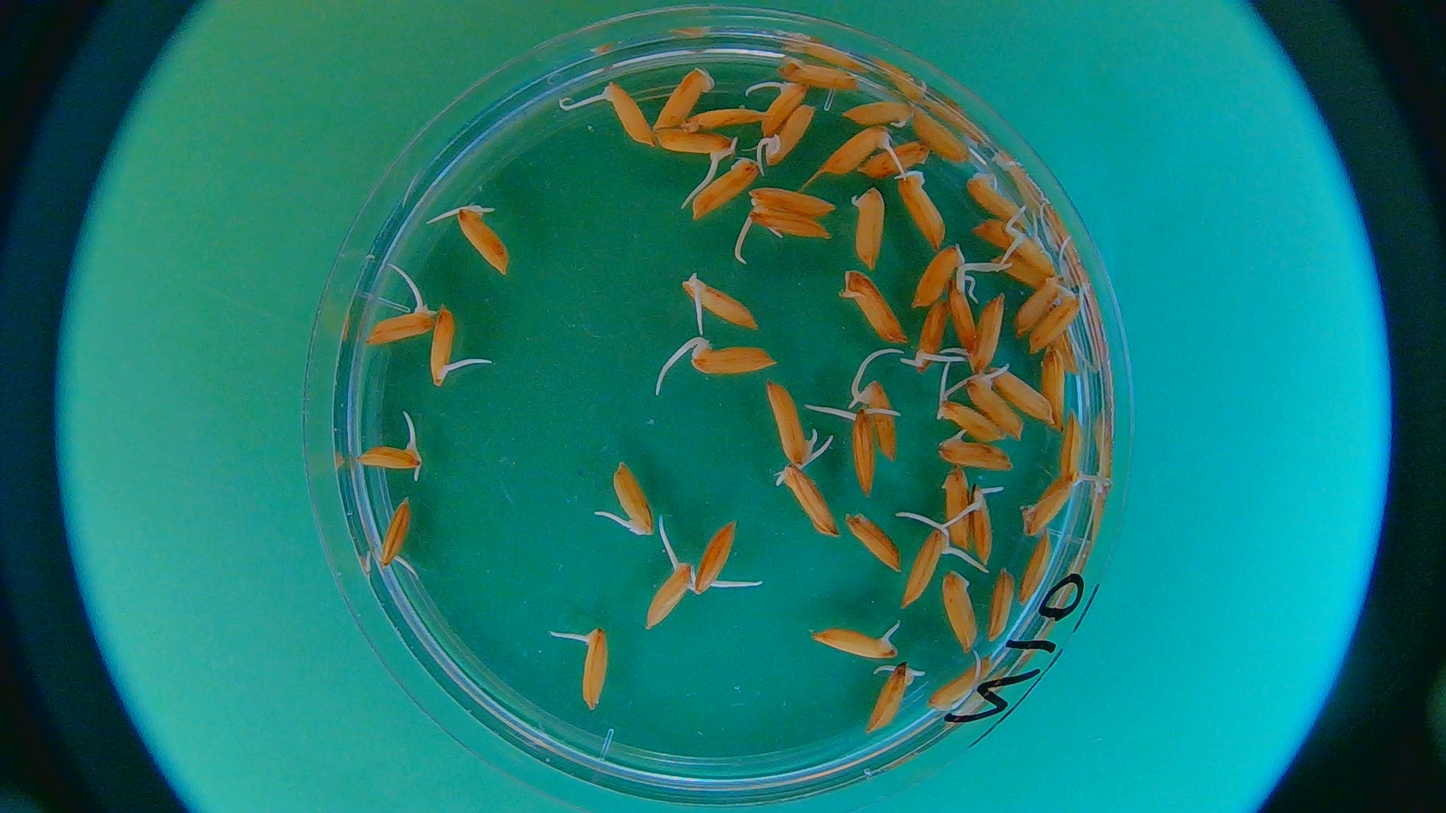no: (841, 269, 908, 346), (691, 155, 760, 219), (989, 364, 1056, 425), (657, 69, 714, 135), (897, 167, 944, 246), (844, 512, 903, 570), (911, 107, 971, 163), (749, 180, 837, 218), (942, 571, 981, 653), (375, 495, 419, 566), (1018, 527, 1054, 607), (859, 140, 932, 178), (990, 250, 1057, 290), (1040, 343, 1068, 434), (987, 570, 1020, 647), (941, 466, 972, 547), (844, 98, 912, 131), (682, 105, 768, 130)
yes: (816, 406, 881, 493), (775, 462, 843, 539), (764, 379, 820, 466), (848, 368, 900, 461), (900, 520, 948, 609), (965, 366, 1023, 437), (820, 123, 897, 176), (968, 169, 1034, 229), (960, 292, 1008, 373), (609, 459, 657, 540), (1027, 282, 1078, 358), (868, 659, 919, 734), (683, 337, 774, 379), (644, 556, 694, 632), (452, 206, 507, 274), (600, 80, 656, 146), (1021, 470, 1078, 534), (684, 280, 758, 327), (938, 425, 1015, 470), (937, 386, 1007, 435), (914, 243, 966, 308), (774, 56, 859, 95), (929, 656, 989, 711), (744, 206, 829, 243), (764, 102, 813, 165), (968, 483, 1005, 566), (368, 303, 436, 348), (694, 522, 738, 591), (816, 624, 898, 661), (1015, 276, 1063, 339), (759, 78, 809, 138), (849, 186, 886, 267), (905, 300, 944, 374), (429, 306, 463, 388), (1004, 225, 1057, 277), (577, 629, 609, 706), (654, 128, 737, 157), (946, 276, 978, 351), (358, 439, 419, 473), (1063, 414, 1085, 489)
